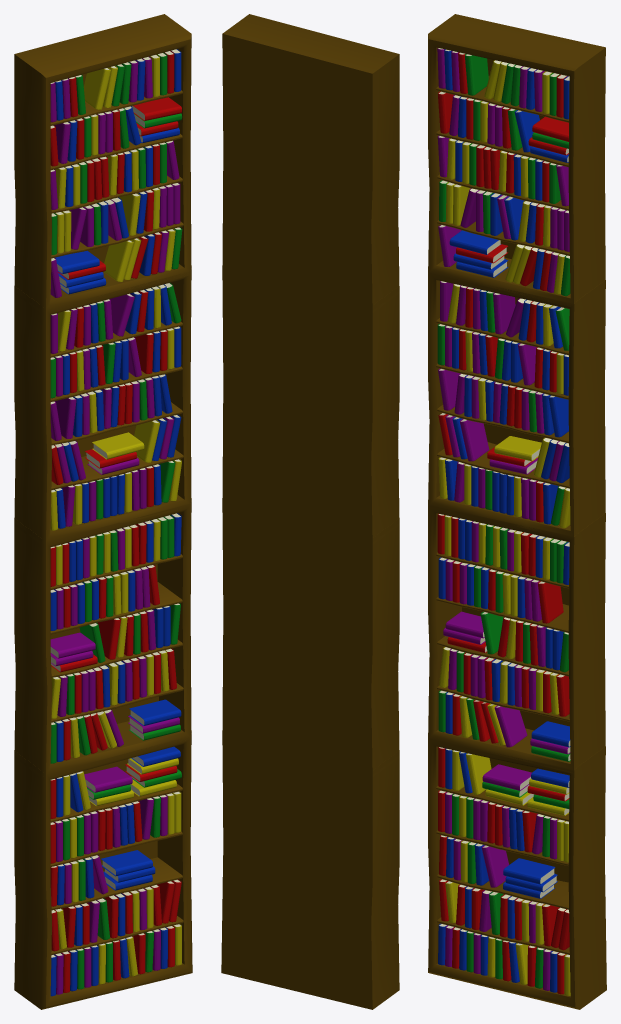
Rendered from bookshelf_c.fbx.
The picture shows the model from 3 angles, left to right: view 1: azimuth 30°, elevation 25°; view 2: azimuth 150°, elevation 25°; view 3: azimuth 330°, elevation 25°; orthographic projection.
Visible parts, largest first — view 1: books, shelf; view 2: shelf; view 3: books, shelf.
Boxes of the visible parts, bbox=[...] form: books: bbox=[50, 49, 182, 996]; shelf: bbox=[14, 14, 192, 1009]; shelf: bbox=[221, 14, 399, 1009]; books: bbox=[437, 48, 570, 996]; shelf: bbox=[428, 14, 606, 1009].
Size of the model in its own units: 94.85 by 563 by 31.41.
